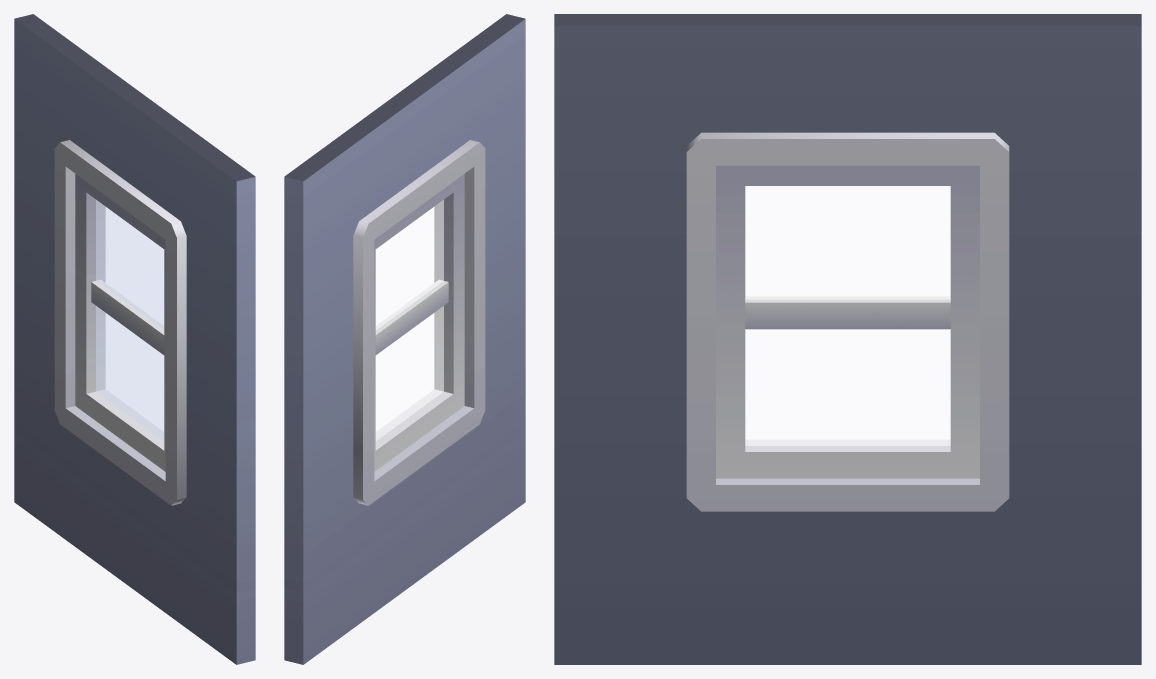
The model's file is wall-window-square-detailed.optimized.glb.
3 renders of one model, left to right at view 1: azimuth 30°, elevation 25°; view 2: azimuth 150°, elevation 25°; view 3: azimuth 270°, elevation 25°, orthographic. The views are drawn at different scales.
Parts seen in each view (by area): view 1: wall-window-square-detailed, (%ignore); view 2: wall-window-square-detailed, (%ignore); view 3: wall-window-square-detailed, (%ignore).
Boxes of the visible parts, x1=… form: wall-window-square-detailed: x1=14, y1=14, x2=255, y2=664; (%ignore): x1=96, y1=200, x2=164, y2=440; wall-window-square-detailed: x1=284, y1=14, x2=525, y2=664; (%ignore): x1=375, y1=200, x2=443, y2=440; wall-window-square-detailed: x1=554, y1=14, x2=1141, y2=664; (%ignore): x1=745, y1=186, x2=950, y2=445.
Bounding box in the file's own units: 0.2001 × 2.4 × 2.
Materials: 2 (1 with a texture image).
